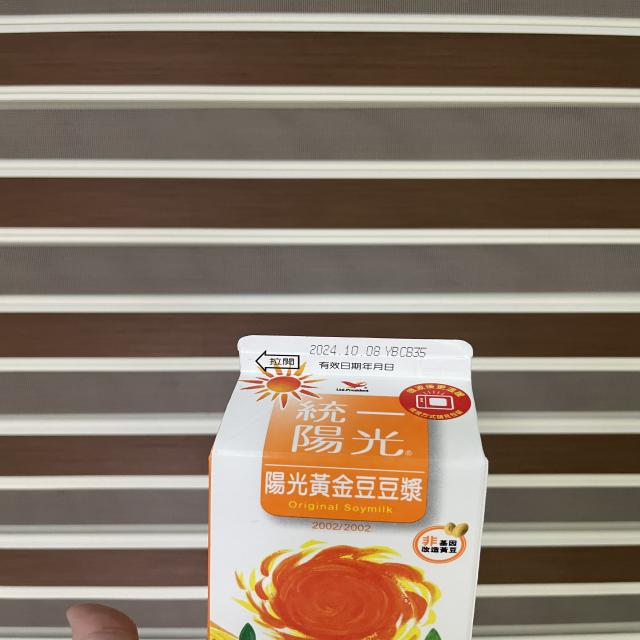TongYi_SoyMilk: (198, 329, 494, 640)
